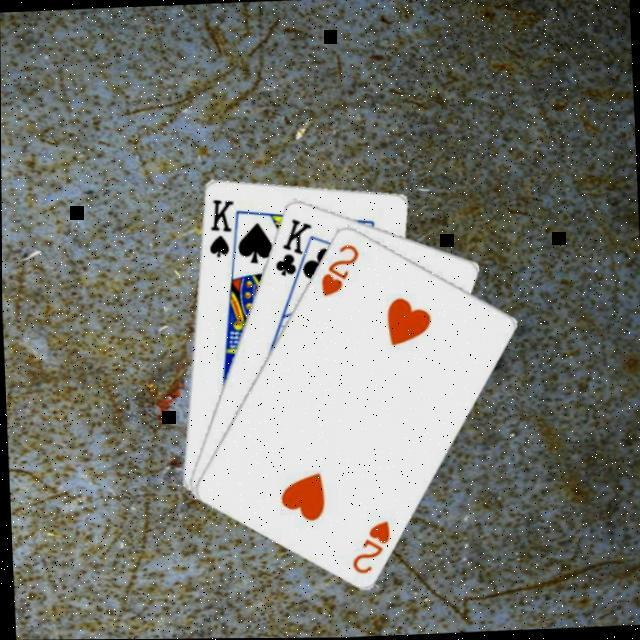2H: (344, 516, 392, 578), (314, 241, 362, 301)
KC: (268, 215, 317, 290)
KS: (202, 195, 236, 260)
